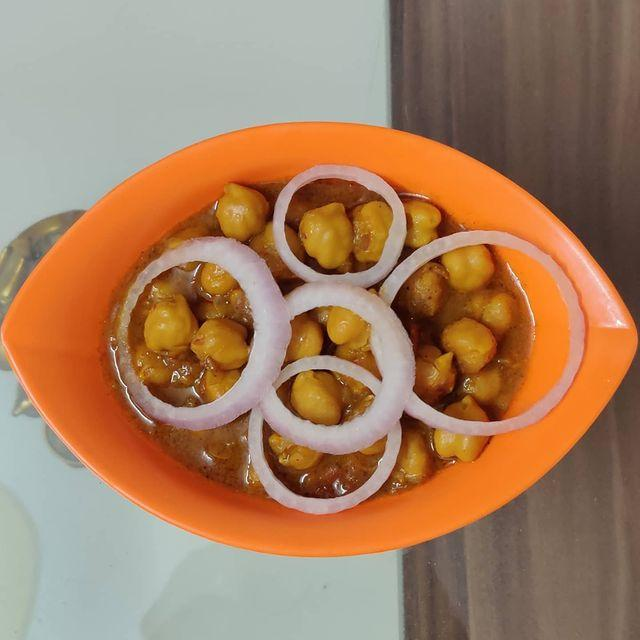Chole: (127, 178, 532, 528)
